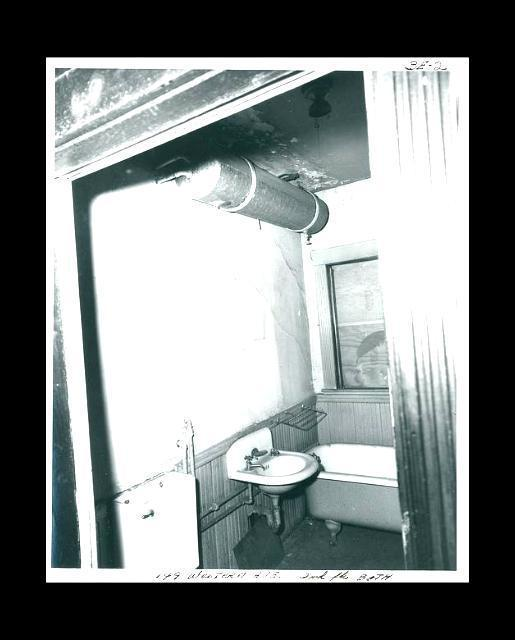Lavamanos: (227, 429, 323, 497)
